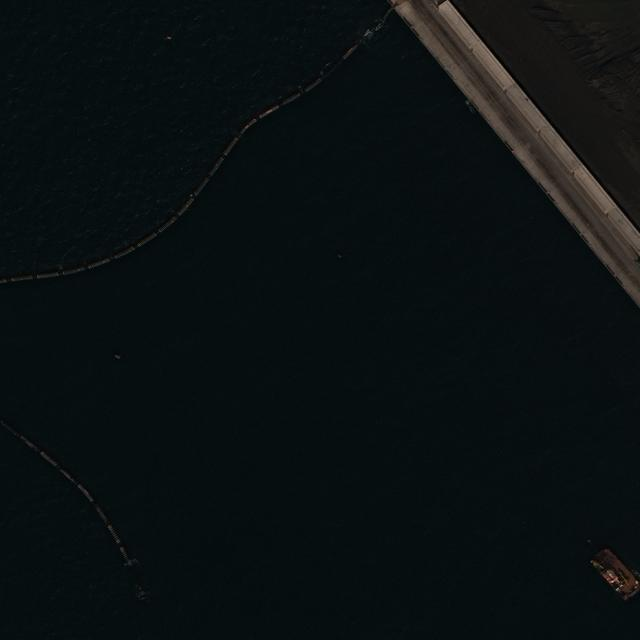Other Ship: (590, 548, 640, 599)
